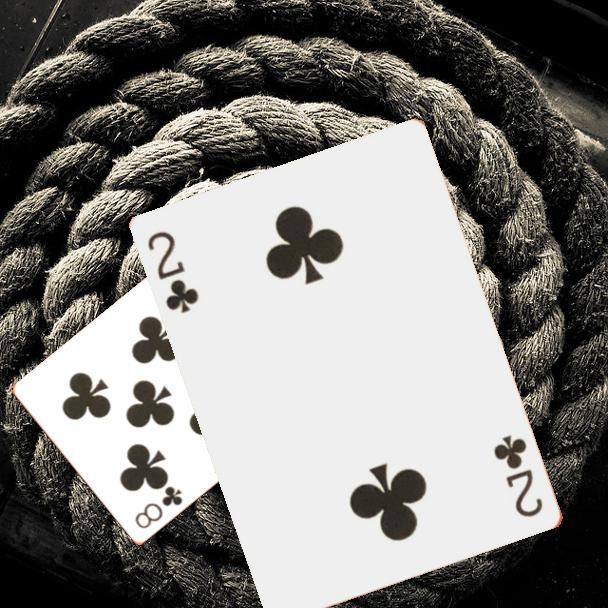c02: (144, 227, 202, 317), (490, 431, 547, 521)
c08: (131, 483, 186, 532)
